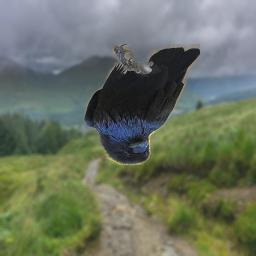Crow: (84, 44, 200, 165)
